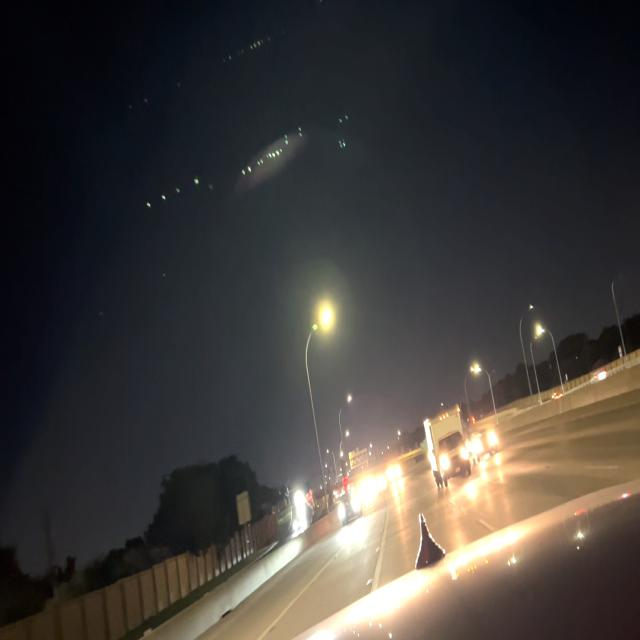back-of-sign: (236, 490, 251, 532), (349, 444, 368, 469)
